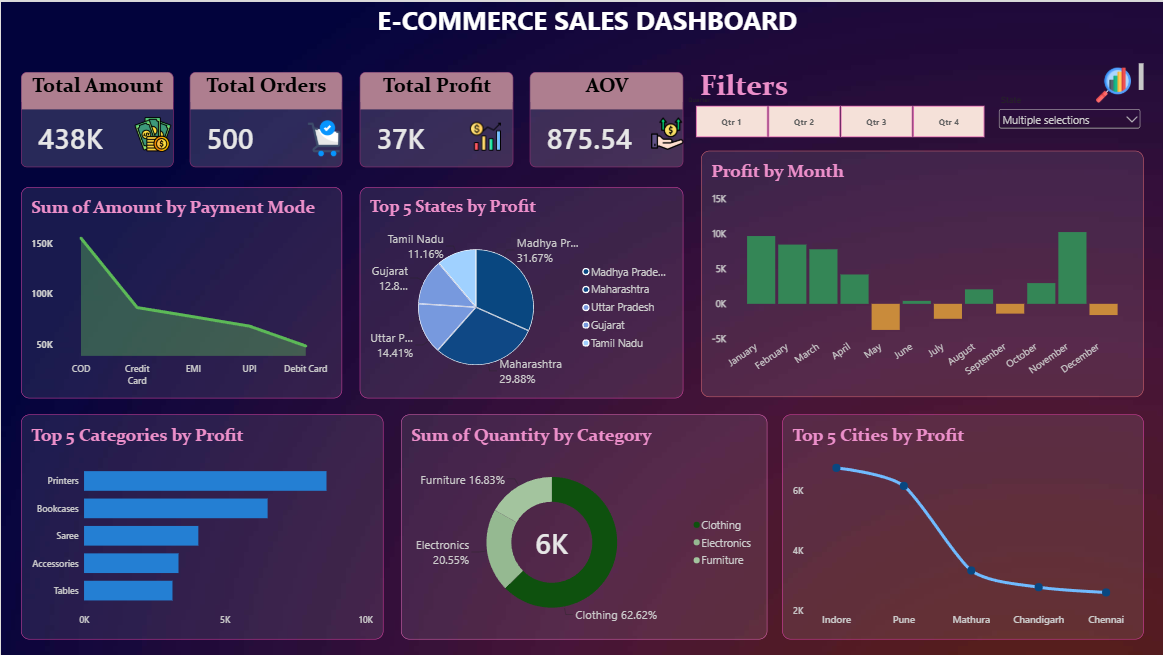

The dashboard page shown, as its layout file describes it:
{"tool":"powerbi","page":{"name":"Page 1","canvas":[1920,1080],"ordinal":0},"visuals":[{"type":"textbox","box":[10.3,0,1910.1,115.3],"z":0},{"type":"columnChart","title":"Profit by Month","fields":{"Category":["Orders.Order Date.Variation.Date Hierarchy.Month"],"Y":["Sum(Details.Profit)"]},"box":[1152.7,244.9,728.6,405.5],"z":1000},{"type":"donutChart","fields":{"Category":["Details.Category"],"Y":["Sum(Details.Quantity)"]},"box":[658.7,679.2,603.1,370.5],"z":3000},{"type":"pieChart","title":"Top 5 States by Profit","fields":{"Category":["Orders.State"],"Y":["Sum(Details.Profit)"]},"box":[590.7,304.6,533.1,347.9],"z":4000},{"type":"cardVisual","title":"Total Orders","fields":{"Data":["CountNonNull(Orders.Order ID)"]},"box":[310.8,115.3,251.1,156.4],"z":4002},{"type":"cardVisual","title":"Total Amount","fields":{"Data":["Sum(Details.Amount)"]},"box":[32.9,115.3,251.1,156.4],"z":4003},{"type":"cardVisual","title":"Total Profit","fields":{"Data":["Sum(Details.Profit)"]},"box":[590.7,115.3,253.2,156.4],"z":4004},{"type":"cardVisual","title":"AOV","fields":{"Data":["Details.AOV"]},"box":[870.7,115.3,253.2,156.4],"z":4005},{"type":"areaChart","title":"Sum of Amount by Payment Mode","fields":{"Category":["Details.PaymentMode"],"Y":["Sum(Details.Amount)"]},"box":[32.9,304.6,529,347.9],"z":4006},{"type":"lineChart","title":"Top 5 Cities by Profit","fields":{"Category":["Orders.City"],"Y":["Sum(Details.Profit)"]},"box":[1286.5,679.2,594.9,370.5],"z":4007},{"type":"barChart","title":"Top 5 Categories by Profit","fields":{"Category":["Details.Sub-Category"],"Y":["Sum(Details.Profit)"]},"box":[32.9,679.2,596.9,370.5],"z":4008},{"type":"slicer","fields":{"Values":["Orders.Order Date.Variation.Date Hierarchy.Quarter"]},"box":[1123.8,154.4,514.6,70],"z":4009},{"type":"textbox","box":[1123.8,100.9,757.5,53.5],"z":4011},{"type":"slicer","fields":{"Values":["Orders.State"]},"box":[1638.4,152.3,242.9,84.4],"z":4012},{"type":"image","box":[765.7,195.5,63.8,51.5],"z":4013},{"type":"image","box":[1070.3,185.2,53.5,63.8],"z":4014},{"type":"image","box":[502.2,185.2,59.7,78.2],"z":4015},{"type":"image","box":[1803.1,100.9,57.6,72],"z":4016},{"type":"image","box":[216.1,187.3,67.9,61.7],"z":4017}]}

Visuals, with their boxes in screenshot pixels (x1, y1, x2, y2), scaled from the page's 1920x1080 canvas onto the 1163x655 screenshot:
textbox: [x1=6, y1=0, x2=1162, y2=70]
"Profit by Month" columnChart: [x1=698, y1=149, x2=1140, y2=394]
donutChart - Details.Category x Sum(Details.Quantity): [x1=399, y1=412, x2=764, y2=637]
"Top 5 States by Profit" pieChart: [x1=358, y1=185, x2=681, y2=396]
"Total Orders" cardVisual: [x1=188, y1=70, x2=340, y2=165]
"Total Amount" cardVisual: [x1=20, y1=70, x2=172, y2=165]
"Total Profit" cardVisual: [x1=358, y1=70, x2=511, y2=165]
"AOV" cardVisual: [x1=527, y1=70, x2=681, y2=165]
"Sum of Amount by Payment Mode" areaChart: [x1=20, y1=185, x2=340, y2=396]
"Top 5 Cities by Profit" lineChart: [x1=779, y1=412, x2=1140, y2=637]
"Top 5 Categories by Profit" barChart: [x1=20, y1=412, x2=381, y2=637]
slicer - Orders.Order Date.Variation.Date Hierarchy.Quarter: [x1=681, y1=94, x2=992, y2=136]
textbox: [x1=681, y1=61, x2=1140, y2=94]
slicer - Orders.State: [x1=992, y1=92, x2=1140, y2=144]
image: [x1=464, y1=119, x2=502, y2=150]
image: [x1=648, y1=112, x2=681, y2=151]
image: [x1=304, y1=112, x2=340, y2=160]
image: [x1=1092, y1=61, x2=1127, y2=105]
image: [x1=131, y1=114, x2=172, y2=151]
